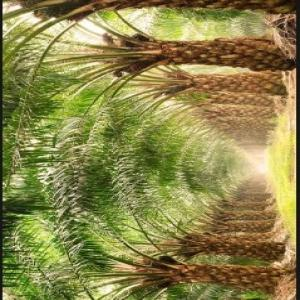palm tree: (1, 0, 296, 299)
